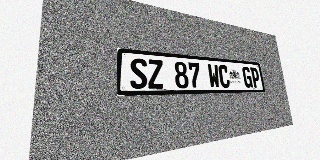7: (187, 62, 202, 88)
8: (174, 61, 189, 88)
C: (218, 65, 230, 88)
G: (242, 67, 253, 88)
P: (250, 67, 261, 88)
S: (130, 58, 148, 89)
W: (207, 64, 220, 88)
Z: (147, 59, 164, 89)
